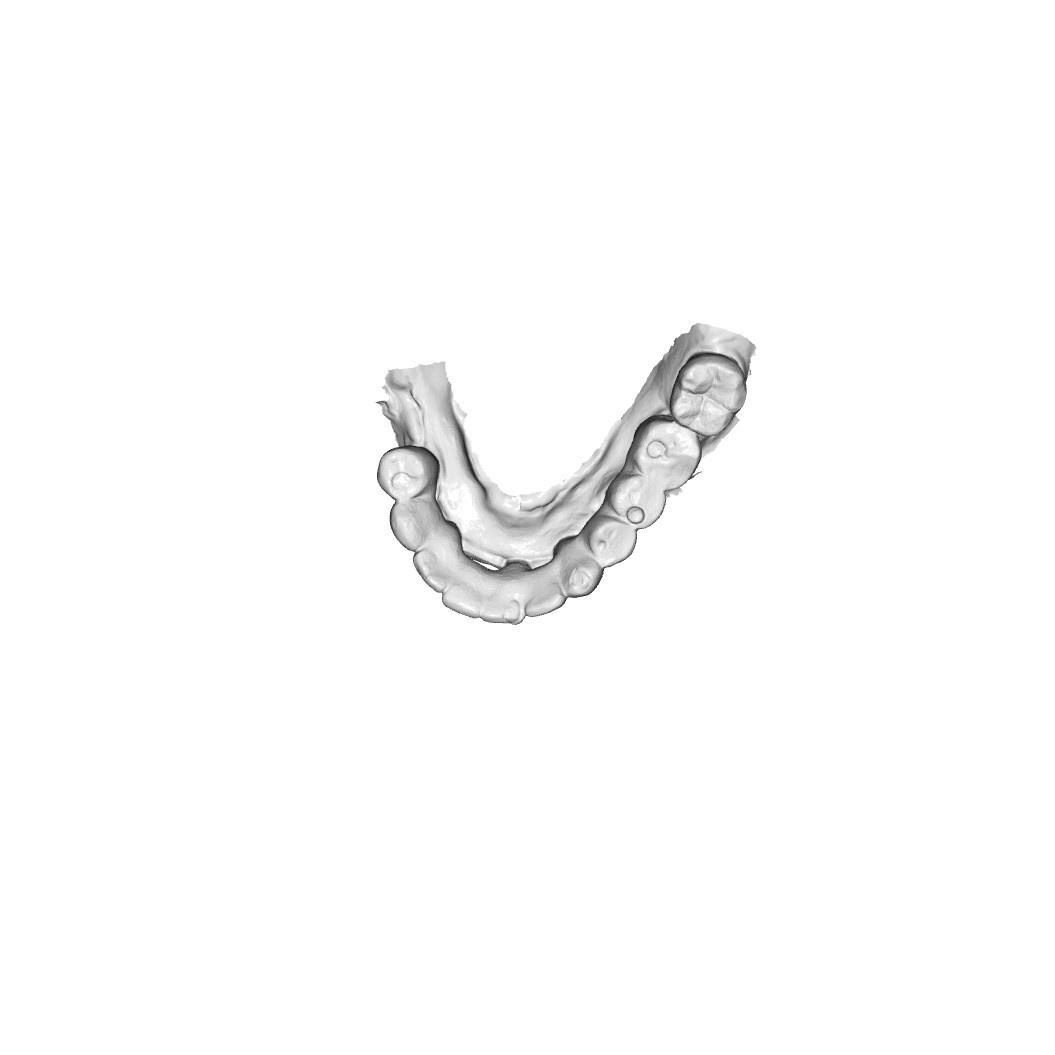canine: (386, 496, 449, 552), (559, 540, 601, 590)
incisor: (523, 566, 573, 616), (409, 541, 456, 591), (480, 573, 522, 622), (442, 570, 485, 616)
molar: (673, 354, 746, 437), (638, 415, 697, 488)
premolar: (584, 516, 649, 570), (378, 442, 432, 503), (619, 474, 670, 527)
